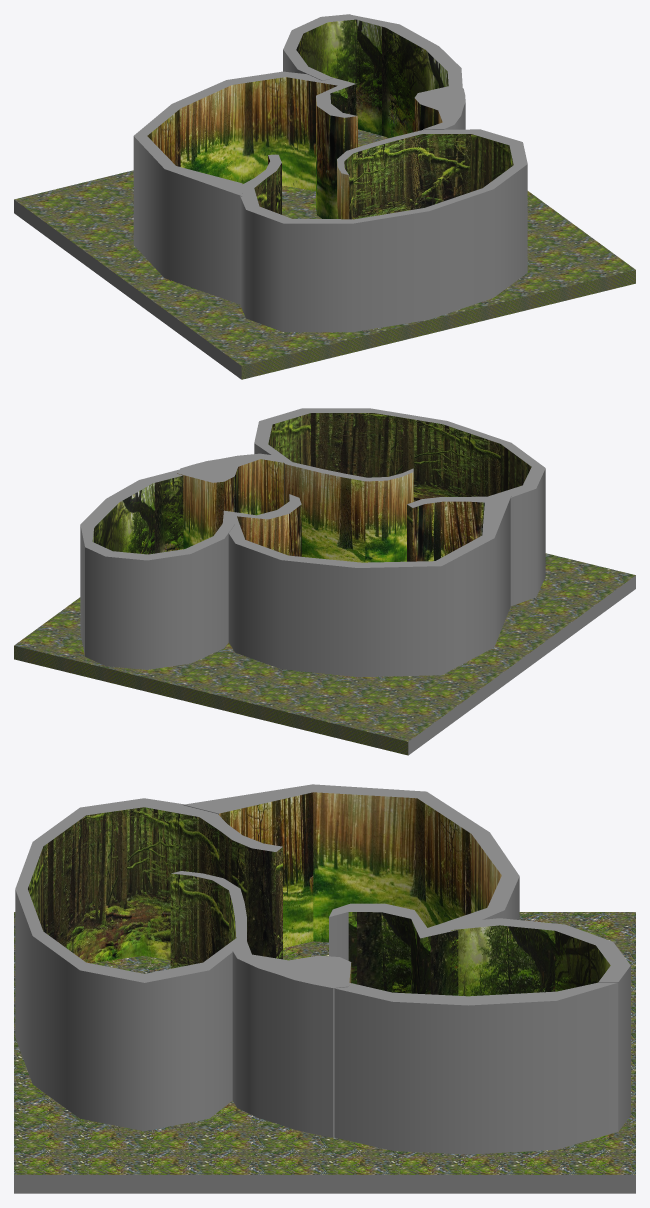
The model's file is forest with new texture.FBX.
The picture shows the model from 3 angles, top to bottom: view 1: azimuth 30°, elevation 25°; view 2: azimuth 150°, elevation 25°; view 3: azimuth 270°, elevation 25°; orthographic projection. The views are drawn at different scales.
Visible parts, largest first — view 1: Cylinder001; view 2: Cylinder001; view 3: Cylinder001.
Part boxes in pixels (left/top/right/bottom): Cylinder001: left=14, top=14, right=635, bottom=379; Cylinder001: left=14, top=408, right=635, bottom=755; Cylinder001: left=14, top=784, right=635, bottom=1193.
Size of the model in its own units: 354 by 106 by 354.
7 materials, 5 textured.
